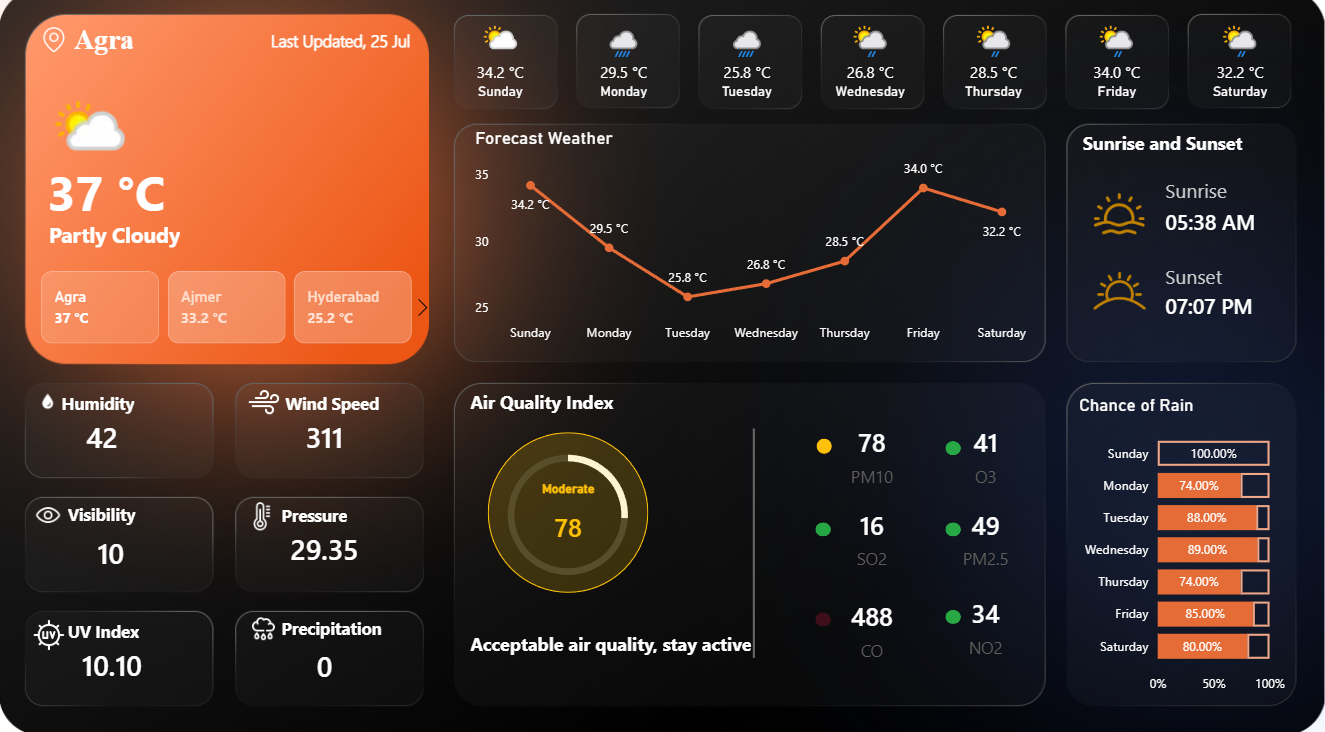

What the dashboard file says about the page in this screenshot:
{"tool":"powerbi","page":{"name":"Page 1","canvas":[1280,720],"ordinal":0},"visuals":[{"type":"donutChart","fields":{"Y":["Sum(Current.current.air_quality.pm10)","_Measure.Left_value_PM10"]},"box":[471.9,428.9,155,155],"z":0},{"type":"shape","box":[471.9,426.3,155,155],"z":1000},{"type":"advancedSlicerVisual","fields":{"Values":["Location.location.name"]},"box":[15.1,265.9,408.3,80.6],"z":2000},{"type":"shape","box":[46.6,150,194.1,88.2],"z":3000},{"type":"shape","box":[47.9,216.7,175.2,34],"z":4000},{"type":"shape","box":[72.4,30.2,156.8,33.8],"z":5000},{"type":"shape","box":[170.1,30.2,226.8,33.8],"z":6000},{"type":"image","box":[33.8,30.2,38.6,33.8],"z":7000},{"type":"cardVisual","fields":{"Data":["Min(Current.current.condition.icon)"]},"box":[27.7,78.1,108.4,94.5],"z":8000},{"type":"image","box":[33.8,383.6,26.5,25.3],"z":9000},{"type":"shape","box":[60.3,380,121.9,33.8],"z":10000},{"type":"image","box":[29,487.4,37.4,37.4],"z":11000},{"type":"image","box":[27.7,597.2,41,49.5],"z":12000},{"type":"image","box":[235.3,376.4,41,41],"z":13000},{"type":"image","box":[235.3,488.6,37.4,37.4],"z":14000},{"type":"image","box":[232.8,597.2,44.6,37.4],"z":15000},{"type":"shape","box":[66.4,487.4,115.8,33.8],"z":16000},{"type":"shape","box":[66.4,600.8,129.1,33.8],"z":17000},{"type":"shape","box":[276.3,380,108.6,33.8],"z":18000},{"type":"shape","box":[272.7,488.6,108.6,33.8],"z":19000},{"type":"shape","box":[272.7,597.2,108.6,33.8],"z":20000},{"type":"card","fields":{"Values":["Sum(Current.current.humidity)"]},"box":[57.9,395.7,83.2,72.4],"z":21000},{"type":"card","fields":{"Values":["Sum(Current.current.wind_degree)"]},"box":[272.7,395.7,83.2,72.4],"z":22000},{"type":"card","fields":{"Values":["Sum(Current.current.pressure_in)"]},"box":[272.2,504,83.2,71.8],"z":23000},{"type":"card","fields":{"Values":["Sum(Current.current.precip_in)"]},"box":[272.2,613.7,83.2,78.1],"z":24000},{"type":"card","fields":{"Values":["Sum(Current.current.vis_km)"]},"box":[66.8,507.8,83.2,71.8],"z":25000},{"type":"card","fields":{"Values":["Sum(Current.current.uv)"]},"box":[68,616.2,83.2,71.8],"z":26000},{"type":"advancedSlicerVisual","fields":{"Values":["Forecast_Day.Day_Name"]},"box":[423.1,21.9,836.4,91.4],"z":27000},{"type":"lineChart","title":"Forecast Weather","fields":{"Y":["Sum(Forecast_Day.forecast.forecastday.day.avgtemp_c)"],"Category":["Forecast_Day.Day_Name"]},"box":[454.8,131.7,548.7,217],"z":28000},{"type":"shape","box":[1046.1,129.2,174.4,34.1],"z":29000},{"type":"shape","box":[1125.4,200,154.8,43.9],"z":30000},{"type":"shape","box":[1125.4,251.2,154.8,48.8],"z":31000},{"type":"shape","box":[1125.4,170.7,154.8,43.9],"z":32000},{"type":"shape","box":[1125.4,279.2,154.8,48.8],"z":33000},{"type":"image","box":[1052.2,185.3,58.5,58.5],"z":34000},{"type":"image","box":[1037.6,251.2,87.8,76.8],"z":35000},{"type":"hundredPercentStackedBarChart","title":"Chance of Rain","fields":{"Y":["Sum(Forecast_Day.forecast.forecastday.day.daily_chance_of_rain)","_Measure.Left_value_rain"],"Category":["Forecast_Day.Day_Name"]},"box":[1037.5,390.1,208.9,297.1],"z":36000},{"type":"shape","box":[455.3,379.2,175.1,35],"z":37000},{"type":"card","fields":{"Values":["Sum(Current.current.air_quality.pm10)"]},"box":[803.5,409.2,78.3,78.3],"z":38000},{"type":"card","fields":{"Values":["Sum(Current.current.air_quality.o3)"]},"box":[912.9,409.2,78.3,78.3],"z":39000},{"type":"card","fields":{"Values":["Sum(Current.current.air_quality.so2)"]},"box":[803.5,488.9,78.3,78.3],"z":40000},{"type":"card","fields":{"Values":["Sum(Current.current.air_quality.pm2_5)"]},"box":[912.9,488.9,78.3,78.3],"z":41000},{"type":"card","fields":{"Values":["Sum(Current.current.air_quality.co)"]},"box":[803.5,576.7,78.3,78.3],"z":42000},{"type":"card","fields":{"Values":["Sum(Current.current.air_quality.no2)"]},"box":[912.9,574,78.3,78.3],"z":43000},{"type":"shape","box":[788.7,432.2,14.9,14.9],"z":44000},{"type":"shape","box":[788.1,512.4,15.2,13.9],"z":45000},{"type":"shape","box":[788.1,599.6,15.2,13.9],"z":46000},{"type":"shape","box":[913.4,433.9,15.2,13.9],"z":47000},{"type":"shape","box":[913.4,512.4,15.2,13.9],"z":48000},{"type":"shape","box":[913.4,597.1,15.2,13.9],"z":49000},{"type":"shape","box":[705.9,422.5,45.5,221.4],"z":50000},{"type":"card","fields":{"Values":["Sum(Current.current.air_quality.pm10)"]},"box":[509.8,473.1,78.4,78.4],"z":51000},{"type":"shape","box":[455.1,597,275.5,65.5],"z":51001}]}

Visuals, with their boxes in screenshot pixels (x1, y1, x2, y2), scaled from the page's 1280x720 canvas onto the 1325x732 screenshot:
donutChart - Sum(Current.current.air_quality.pm10) x _Measure.Left_value_PM10: BBox(488, 436, 649, 594)
shape: BBox(488, 433, 649, 591)
advancedSlicerVisual - Location.location.name: BBox(16, 270, 438, 352)
shape: BBox(48, 152, 249, 242)
shape: BBox(50, 220, 231, 255)
shape: BBox(75, 31, 237, 65)
shape: BBox(176, 31, 411, 65)
image: BBox(35, 31, 75, 65)
cardVisual - Min(Current.current.condition.icon): BBox(29, 79, 141, 175)
image: BBox(35, 390, 62, 416)
shape: BBox(62, 386, 189, 421)
image: BBox(30, 496, 69, 534)
image: BBox(29, 607, 71, 657)
image: BBox(244, 383, 286, 424)
image: BBox(244, 497, 282, 535)
image: BBox(241, 607, 287, 645)
shape: BBox(69, 496, 189, 530)
shape: BBox(69, 611, 202, 645)
shape: BBox(286, 386, 398, 421)
shape: BBox(282, 497, 395, 531)
shape: BBox(282, 607, 395, 642)
card - Sum(Current.current.humidity): BBox(60, 402, 146, 476)
card - Sum(Current.current.wind_degree): BBox(282, 402, 368, 476)
card - Sum(Current.current.pressure_in): BBox(282, 512, 368, 585)
card - Sum(Current.current.precip_in): BBox(282, 624, 368, 703)
card - Sum(Current.current.vis_km): BBox(69, 516, 155, 589)
card - Sum(Current.current.uv): BBox(70, 626, 157, 699)
advancedSlicerVisual - Forecast_Day.Day_Name: BBox(438, 22, 1304, 115)
"Forecast Weather" lineChart: BBox(471, 134, 1039, 355)
shape: BBox(1083, 131, 1263, 166)
shape: BBox(1165, 203, 1324, 248)
shape: BBox(1165, 255, 1324, 305)
shape: BBox(1165, 174, 1324, 218)
shape: BBox(1165, 284, 1324, 333)
image: BBox(1089, 188, 1150, 248)
image: BBox(1074, 255, 1165, 333)
"Chance of Rain" hundredPercentStackedBarChart: BBox(1074, 397, 1290, 699)
shape: BBox(471, 386, 653, 421)
card - Sum(Current.current.air_quality.pm10): BBox(832, 416, 913, 496)
card - Sum(Current.current.air_quality.o3): BBox(945, 416, 1026, 496)
card - Sum(Current.current.air_quality.so2): BBox(832, 497, 913, 577)
card - Sum(Current.current.air_quality.pm2_5): BBox(945, 497, 1026, 577)
card - Sum(Current.current.air_quality.co): BBox(832, 586, 913, 666)
card - Sum(Current.current.air_quality.no2): BBox(945, 584, 1026, 663)
shape: BBox(816, 439, 832, 455)
shape: BBox(816, 521, 832, 535)
shape: BBox(816, 610, 832, 624)
shape: BBox(946, 441, 961, 455)
shape: BBox(946, 521, 961, 535)
shape: BBox(946, 607, 961, 621)
shape: BBox(731, 430, 778, 655)
card - Sum(Current.current.air_quality.pm10): BBox(528, 481, 609, 561)
shape: BBox(471, 607, 756, 674)
